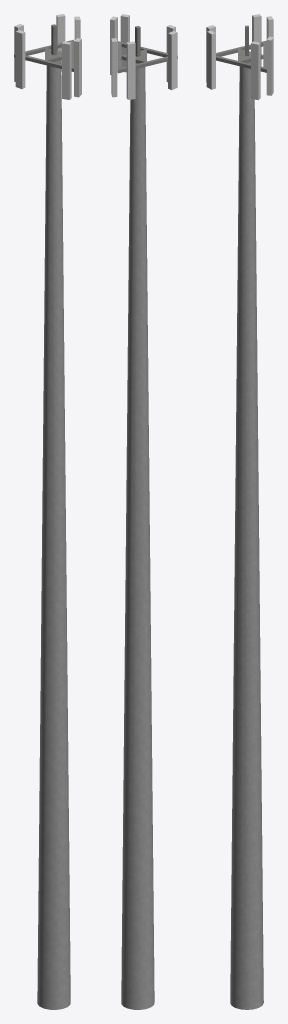
File: tower-concrete-mobPhone-41m-cbj_LOD00.gltf
3 views of the same model, side by side, from view 1: azimuth 30°, elevation 25°; view 2: azimuth 210°, elevation 25°; view 3: azimuth 270°, elevation 25° (orthographic).
Parts seen in each view (by area): view 1: Cylinder; view 2: Cylinder; view 3: Cylinder.
Part boxes in pixels (x1,y1,x2,y2): Cylinder: [14, 14, 81, 1009]; Cylinder: [110, 14, 177, 1009]; Cylinder: [206, 14, 273, 1009].
Size of the model in its own units: 2.87 by 42.26 by 2.64.
